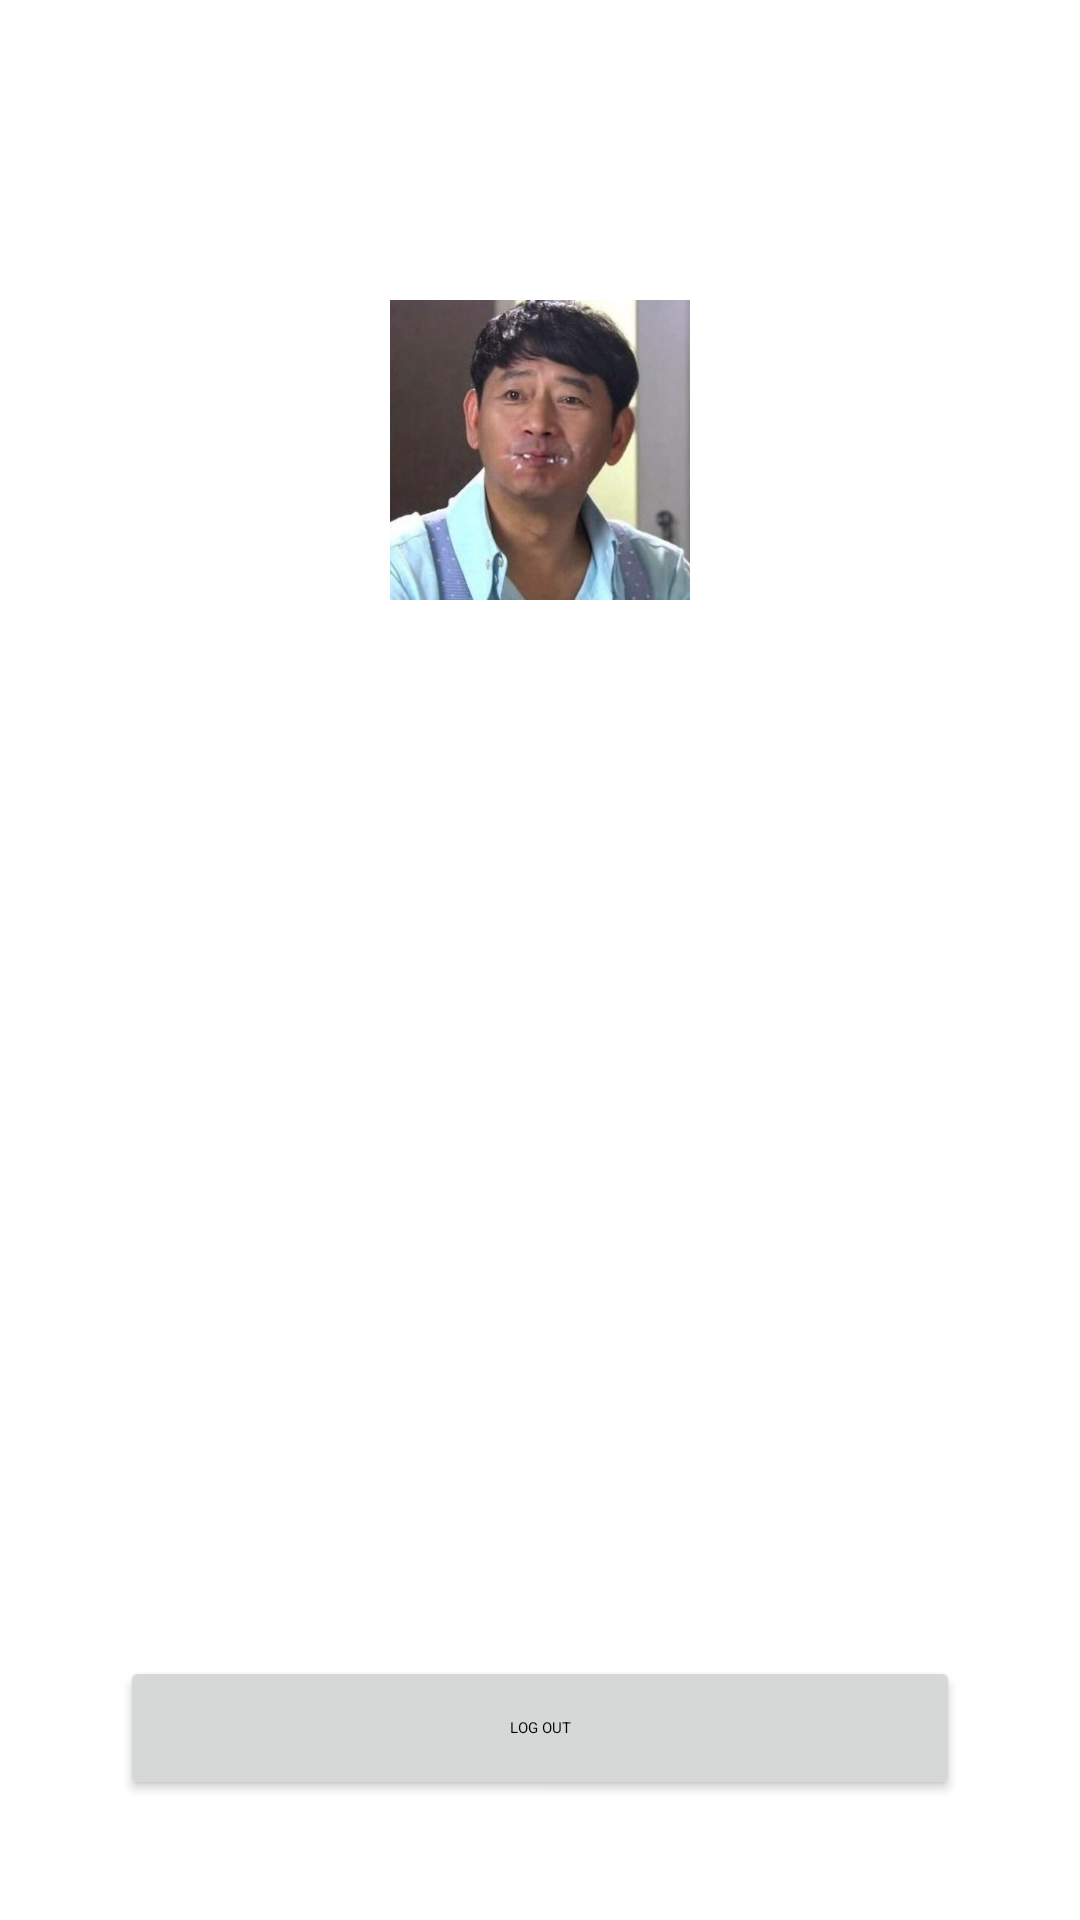

Icons on this 1080 × 1920 Android screen, each with the point to tap as [x,y]:
프로필 이미지: [540,450]
